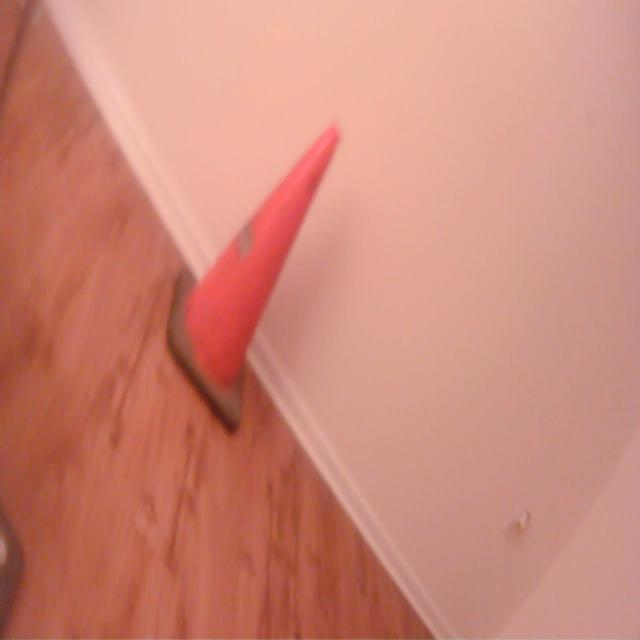traffic cone: (163, 114, 349, 442)
